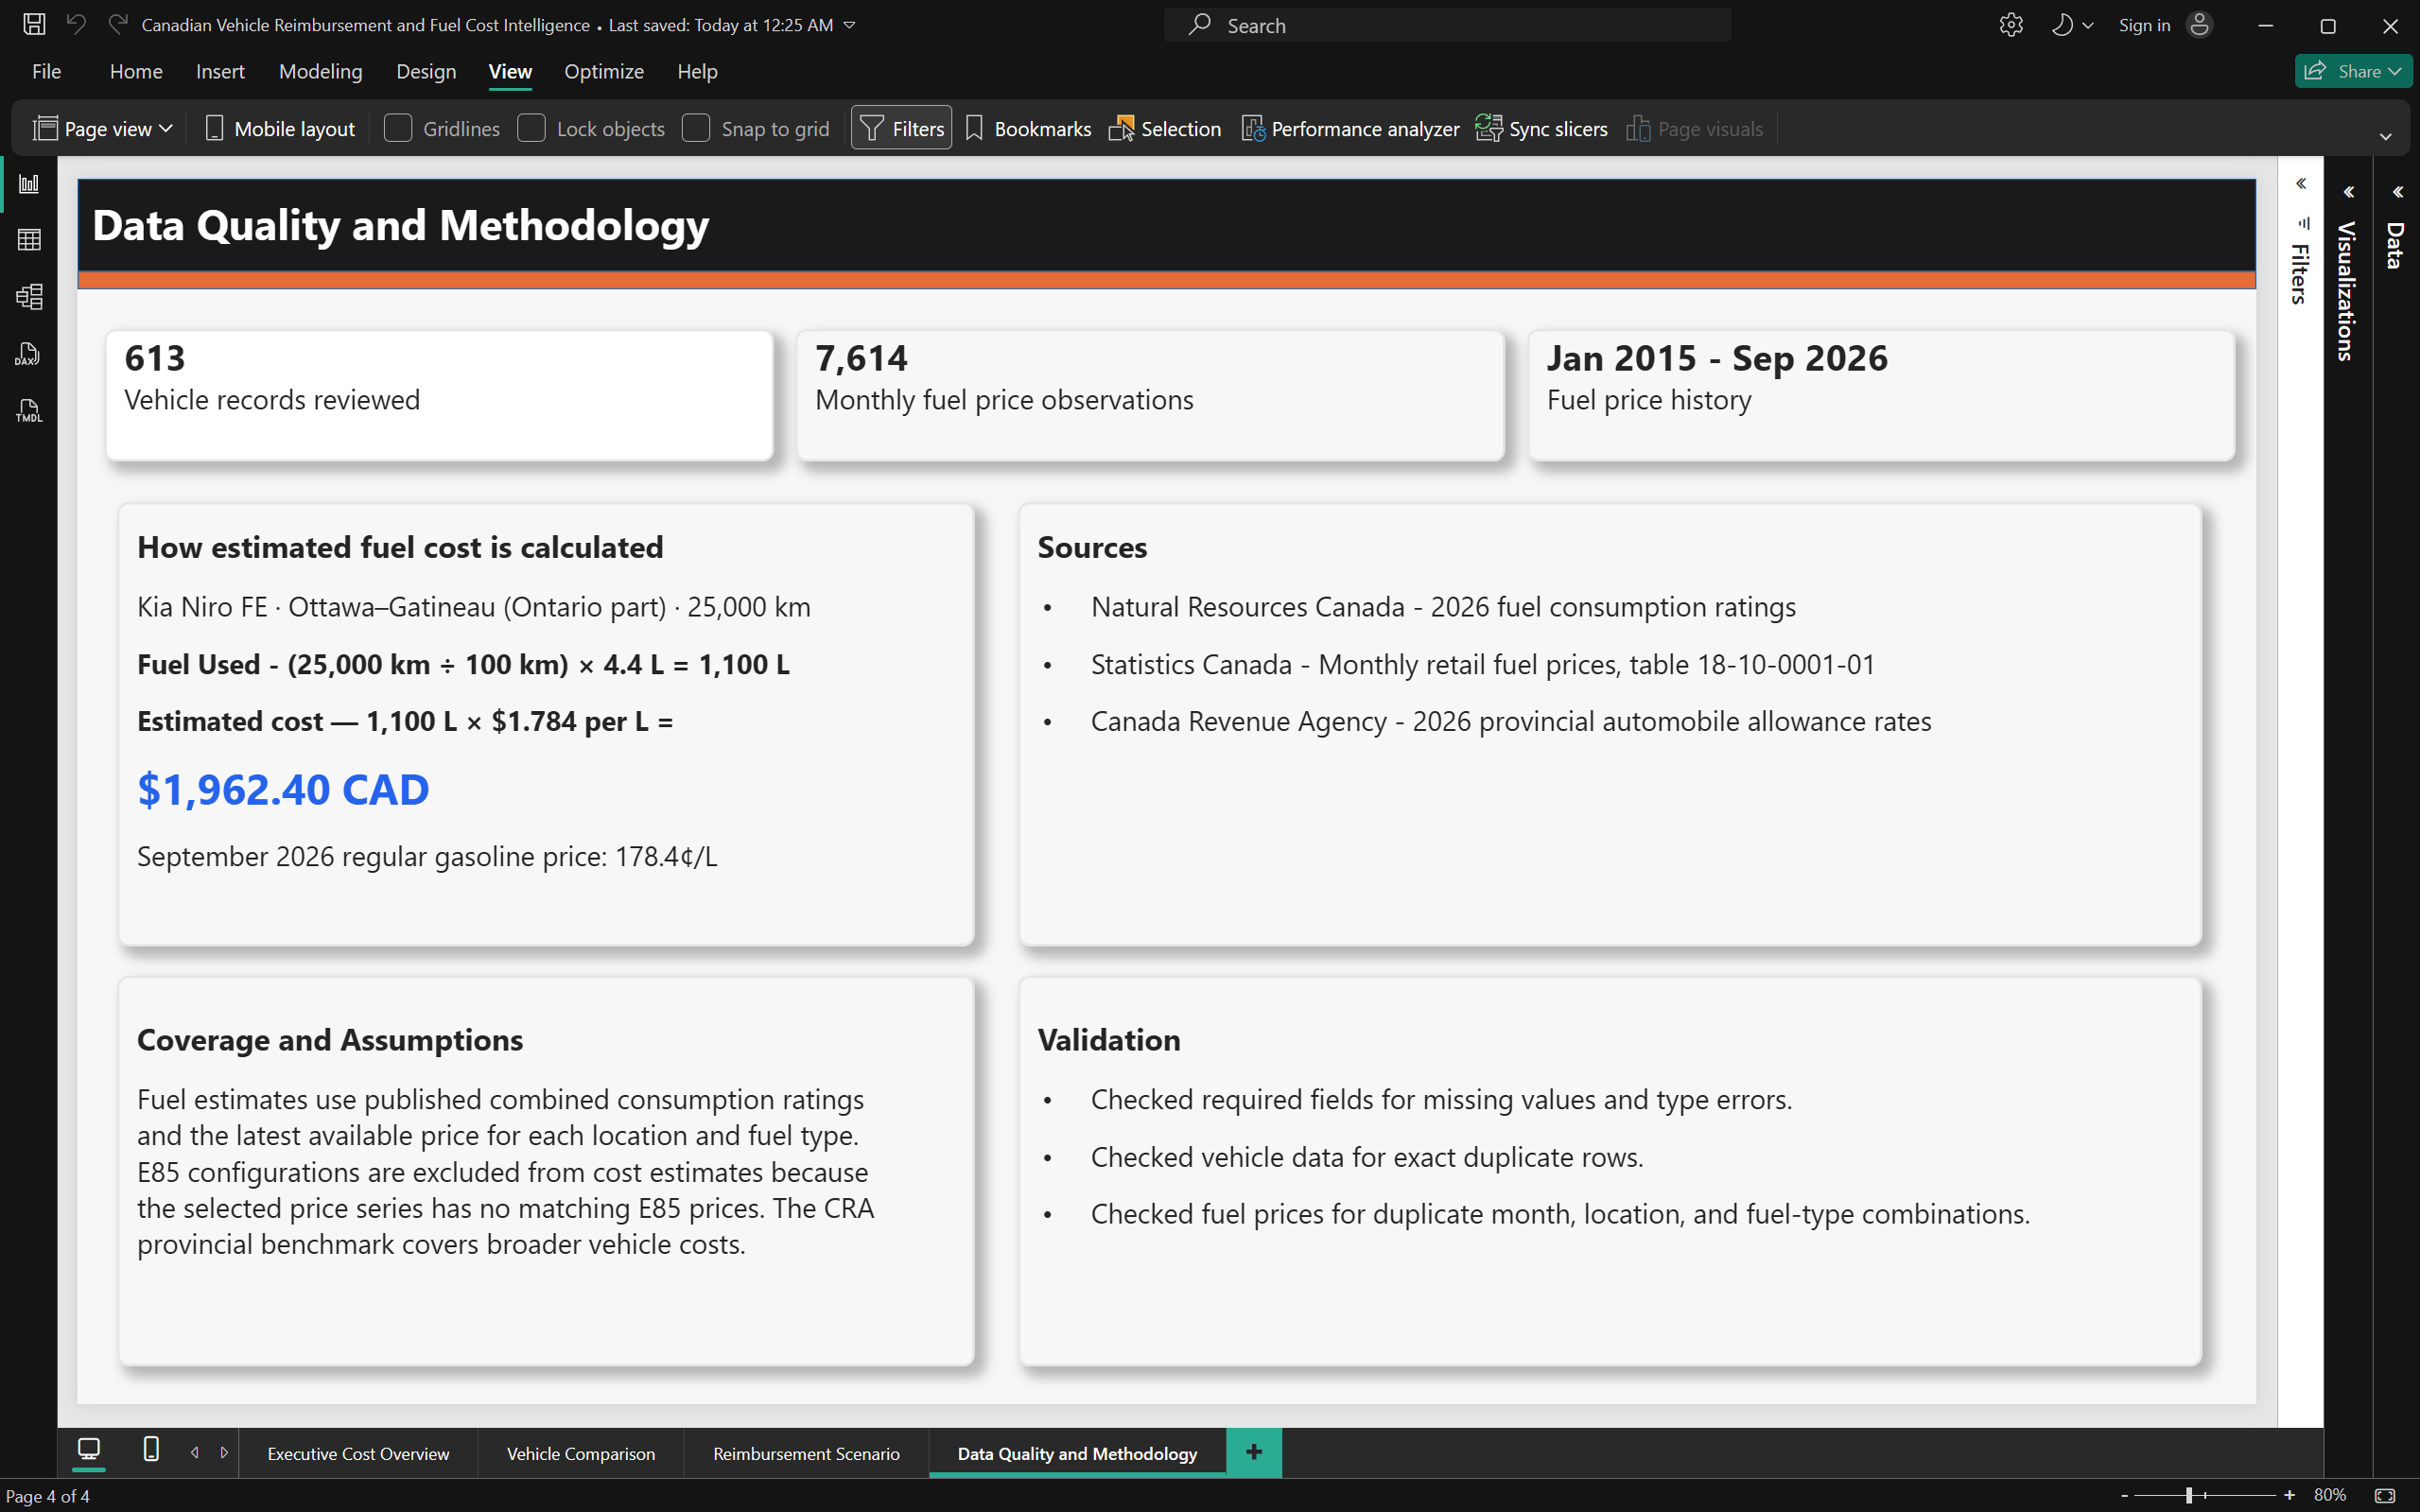

What the dashboard file says about the page in this screenshot:
{"tool":"powerbi","page":{"name":"Data Quality and Methodology","canvas":[1920,1080],"ordinal":3},"visuals":[{"type":"shape","box":[0,0,1920,97.5],"z":1000},{"type":"shape","box":[0,81.2,1920,16.2],"z":2000},{"type":"textbox","box":[12.2,13.5,571.1,52.8],"z":2001},{"type":"textbox","box":[24.4,132.6,590.1,116.4],"z":2002},{"type":"textbox","box":[632,132.6,625.3,116.4],"z":2003},{"type":"textbox","box":[1277.6,132.6,623.9,116.4],"z":2004},{"type":"textbox","box":[35.2,285.6,755.2,391.1],"z":2005},{"type":"textbox","box":[828.3,285.6,1043.5,391.1],"z":2006},{"type":"textbox","box":[35.2,702.4,755.2,343.8],"z":2008},{"type":"textbox","box":[828.3,702.4,1043.5,343.8],"z":2009}]}

Visuals, with their boxes on the page's 1920x1080 design canvas (x1, y1, x2, y2). These are canvas units, not pixel positions in the 2420x1512 screenshot, which may show the page scaled, cropped or inside an application window:
shape: <box>0,0,1920,98</box>
shape: <box>0,81,1920,97</box>
textbox: <box>12,14,583,66</box>
textbox: <box>24,133,614,249</box>
textbox: <box>632,133,1257,249</box>
textbox: <box>1278,133,1902,249</box>
textbox: <box>35,286,790,677</box>
textbox: <box>828,286,1872,677</box>
textbox: <box>35,702,790,1046</box>
textbox: <box>828,702,1872,1046</box>
